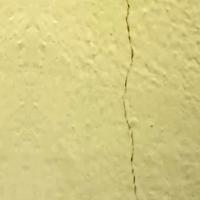crack: (104, 0, 159, 199)
